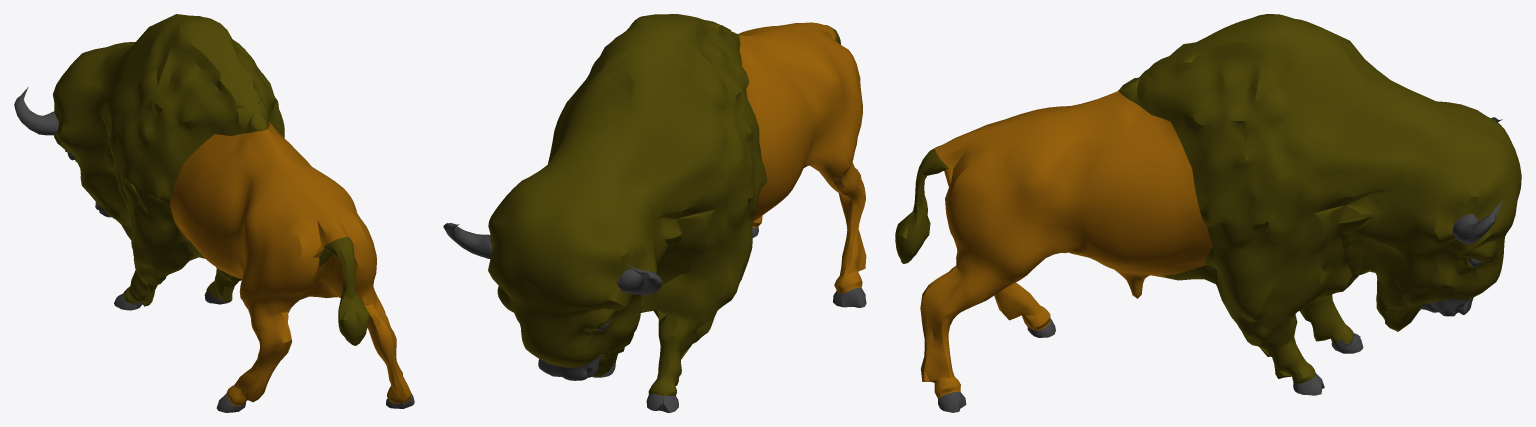
File: bison.dae
3 views of the same model, side by side, from view 1: azimuth 30°, elevation 25°; view 2: azimuth 150°, elevation 25°; view 3: azimuth 270°, elevation 25° (orthographic). The views are drawn at different scales.
Visible parts, largest first — view 1: group_3, group_1, group_0, group_4; view 2: group_3, group_1, group_4 (×4), group_2; view 3: group_3, group_1, group_0, group_4, group_2.
Part boxes in pixels (box(x1,y1,x2,y2)): group_3: box(53, 14, 284, 306); group_1: box(170, 121, 411, 405); group_0: box(319, 237, 369, 345); group_4: box(14, 87, 59, 135); group_3: box(488, 14, 767, 395); group_1: box(738, 22, 866, 293); group_4 (×4): box(443, 223, 866, 412); group_2: box(538, 356, 601, 380); group_3: box(1118, 14, 1521, 384); group_1: box(920, 91, 1212, 398); group_0: box(895, 147, 949, 263); group_4: box(1452, 200, 1502, 244); group_2: box(1419, 297, 1473, 316).
Size of the model in its own units: 25.68 by 65 by 39.92.
